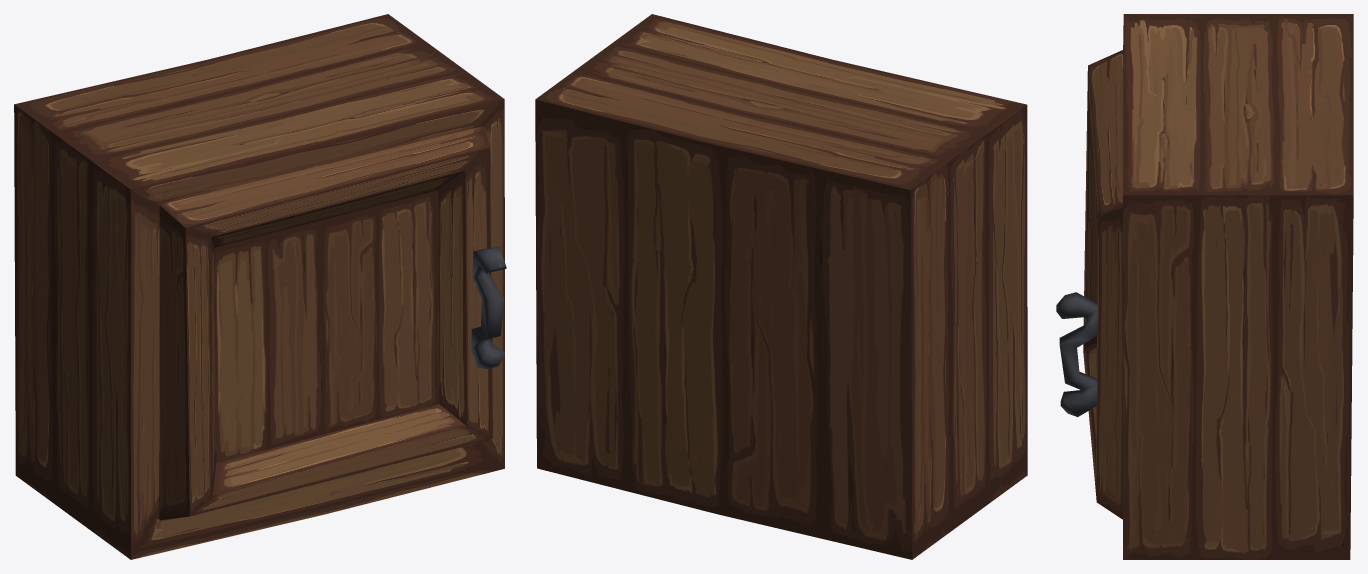
The model's file is SM_PROP_cabinet_interior_05.fbx.
3 views of the same model, side by side, from view 1: azimuth 30°, elevation 25°; view 2: azimuth 150°, elevation 25°; view 3: azimuth 270°, elevation 25° (orthographic).
Parts seen in each view (by area): view 1: SM_PROP_cabinet_interior_05, SM_PROP_cabinet_door_interior_05; view 2: SM_PROP_cabinet_interior_05; view 3: SM_PROP_cabinet_interior_05, SM_PROP_cabinet_door_interior_05.
Part boxes in pixels (bbox=[...]): SM_PROP_cabinet_interior_05: bbox=[14, 14, 504, 559]; SM_PROP_cabinet_door_interior_05: bbox=[159, 126, 506, 520]; SM_PROP_cabinet_interior_05: bbox=[535, 14, 1027, 559]; SM_PROP_cabinet_interior_05: bbox=[1123, 14, 1353, 559]; SM_PROP_cabinet_door_interior_05: bbox=[1056, 50, 1123, 519].
Size of the model in its own units: 100 by 94.98 by 69.68.
